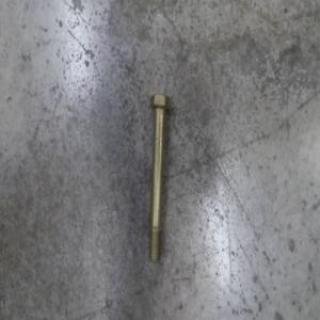Bolttrack_idkeyframe: (147, 89, 170, 265)
